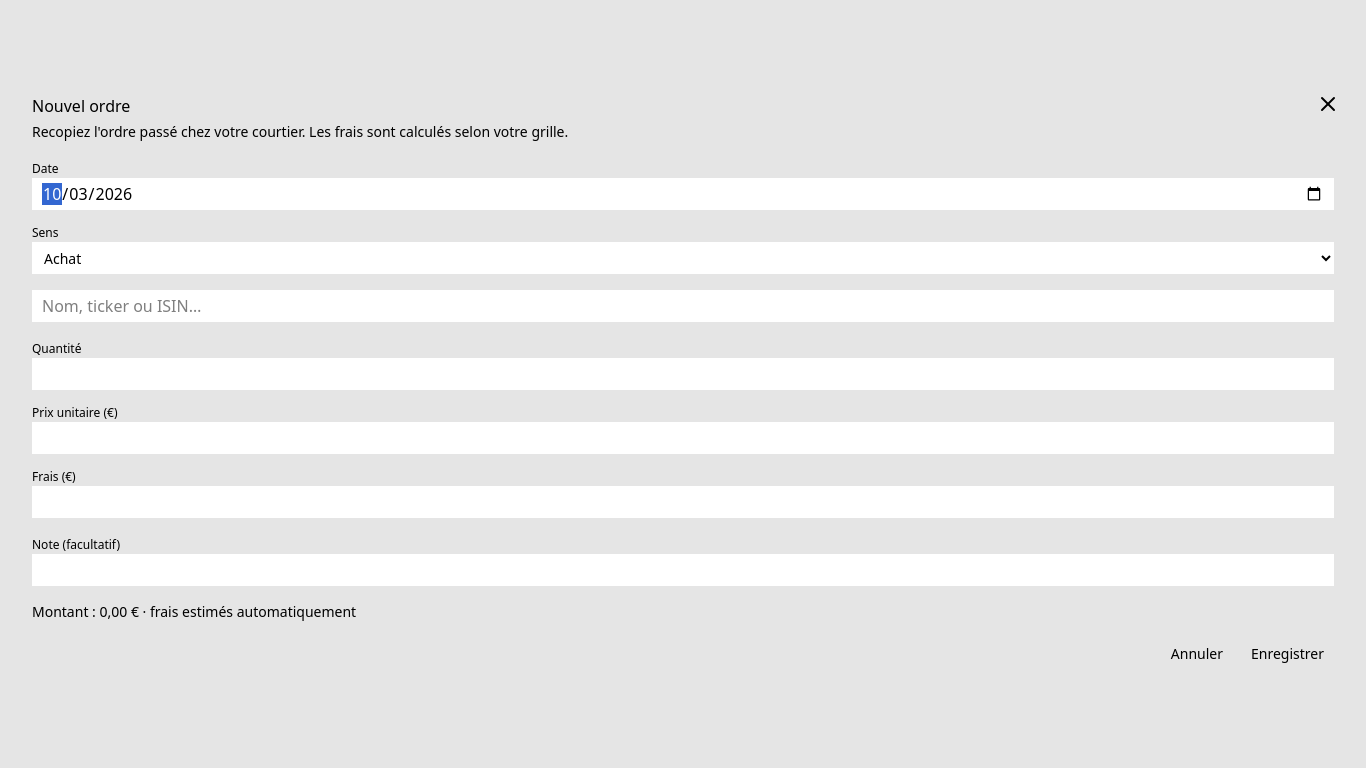
Test: recherche un titre quand aucun n'est prérempli
Expected: the button "Enregistrer" is disabled, [1241,638,1334,670]
Type "tot" into the search field named "Rechercher un titre" at (683, 306), box [32,290,1334,322]
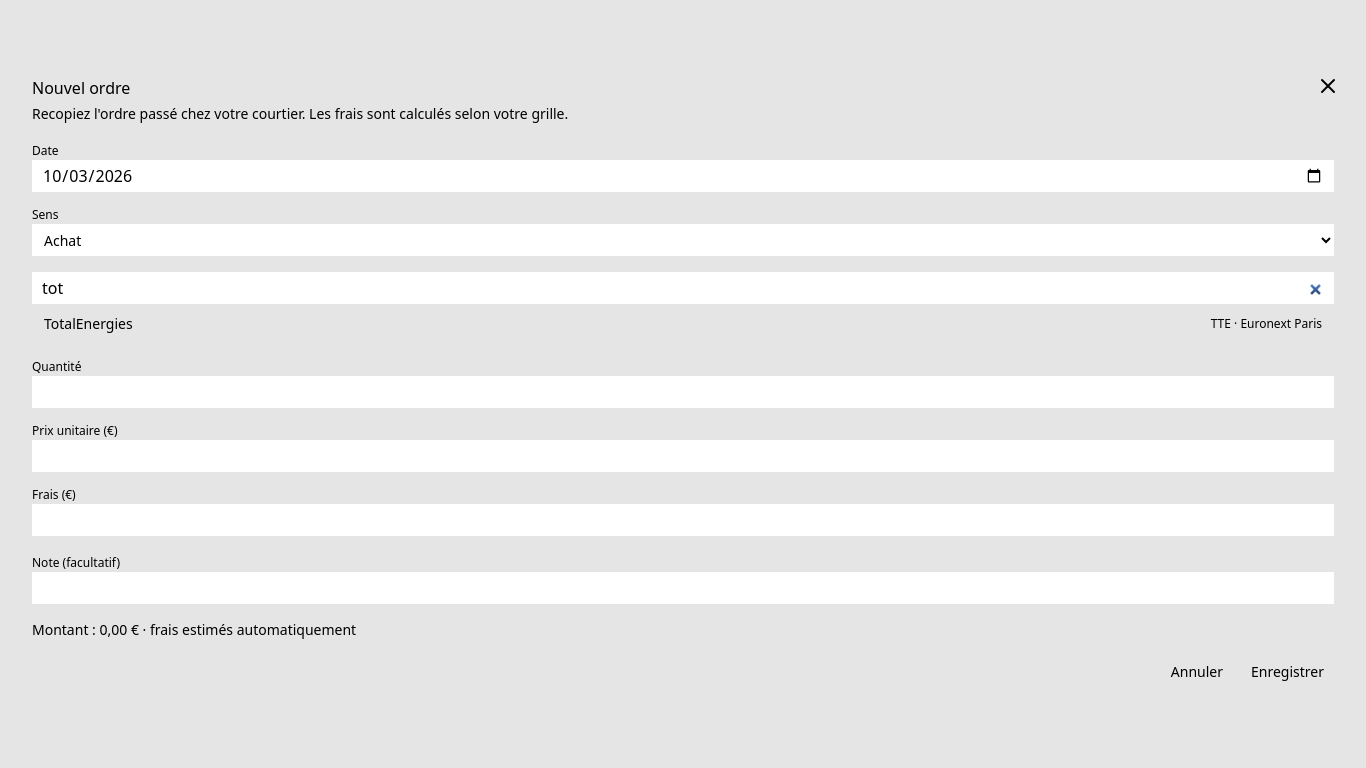
Click the button "TotalEnergies TTE · Euronext Paris" at (88, 324), box [32,308,1334,340]
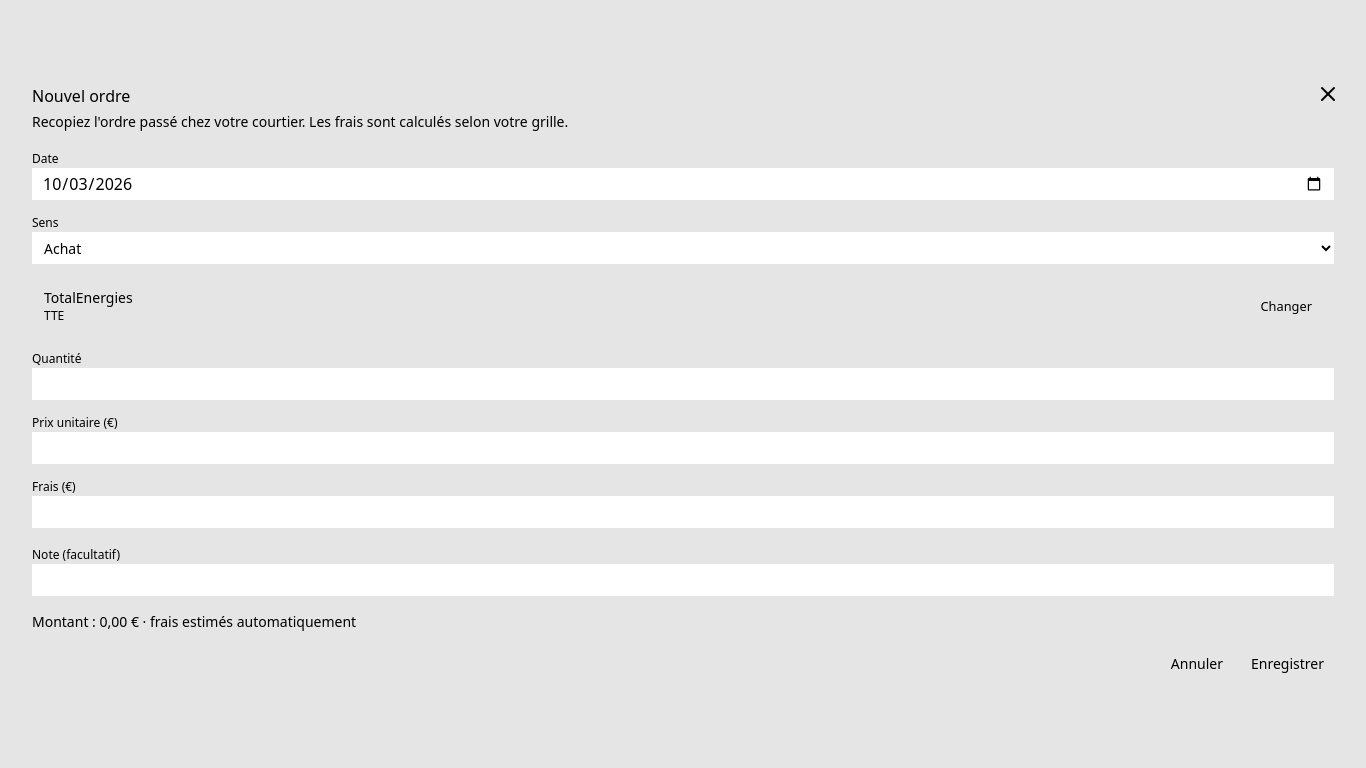
Now the button "Changer" is shown, box [1250,292,1322,320]
